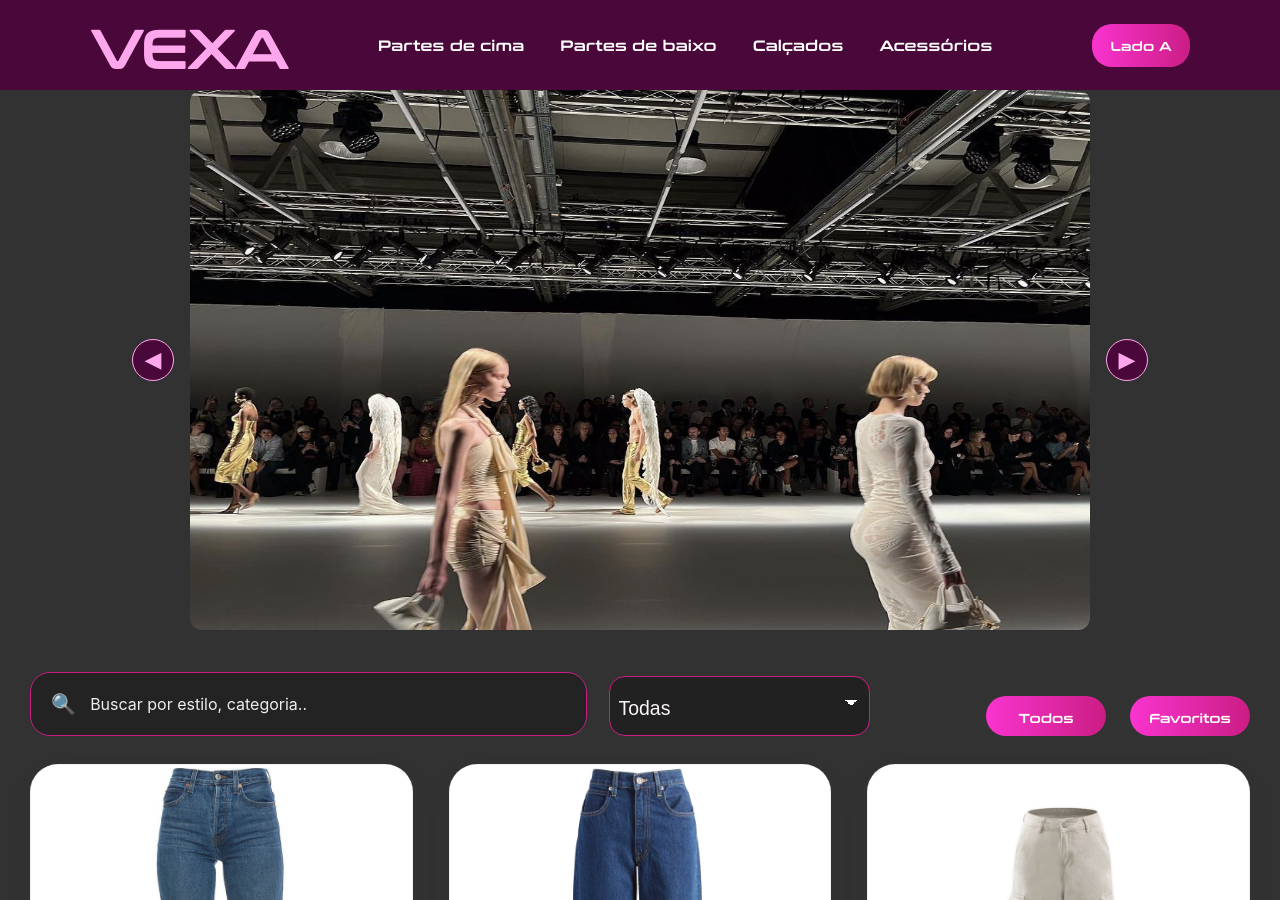
Test: Lado B – catálogo de roupas › mostra estado vazio quando nada corresponde
In the search field named "Buscar roupas": (327, 704) [88,693,566,715], type "zzzxxx"
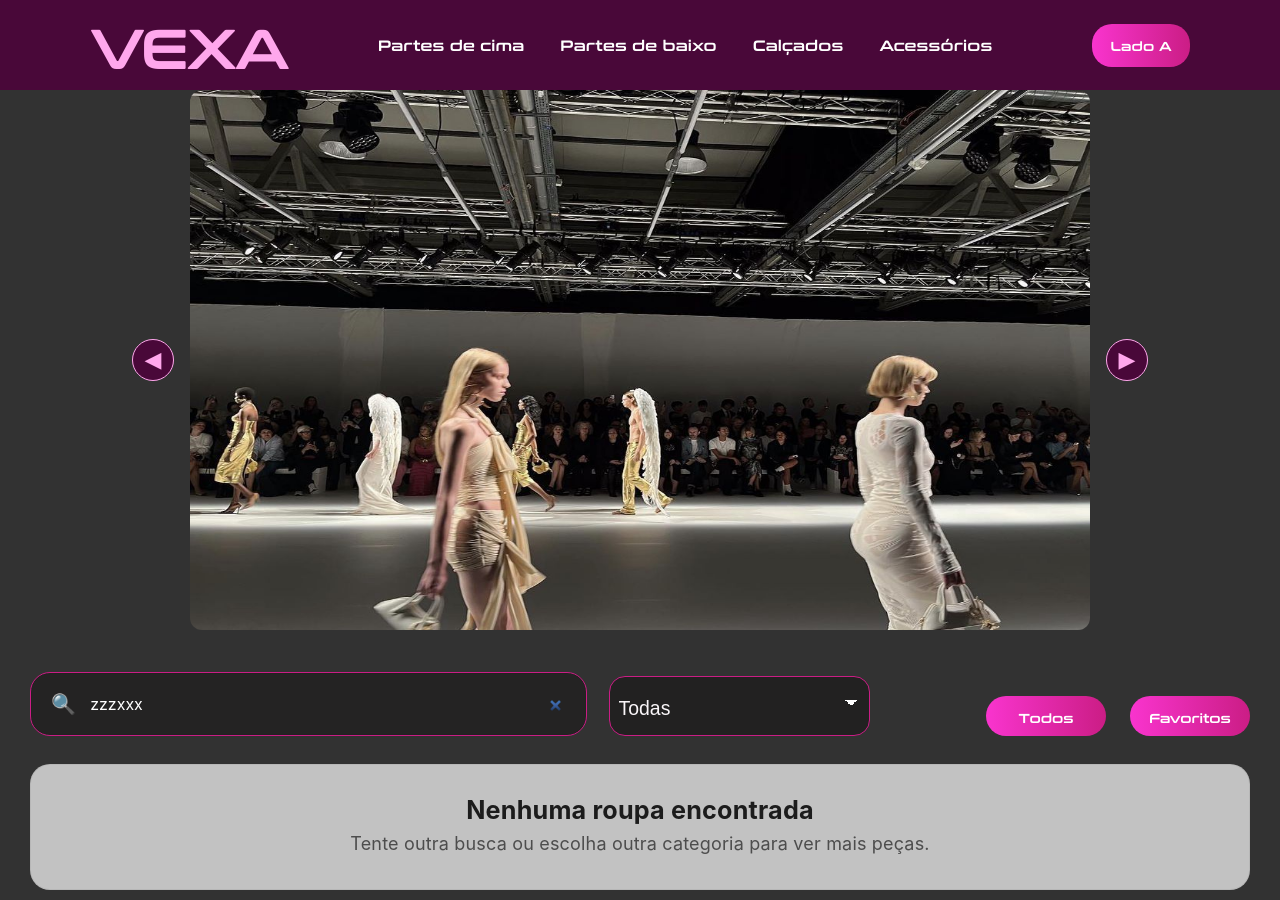
Check: the text "Nenhuma roupa encontrada" is shown, box [466,795,814,825]
Check: no elements with class "card-roupa" are shown
